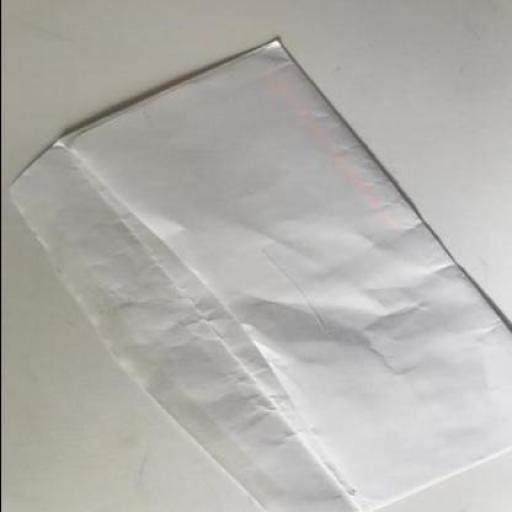paper: (7, 39, 511, 511)
